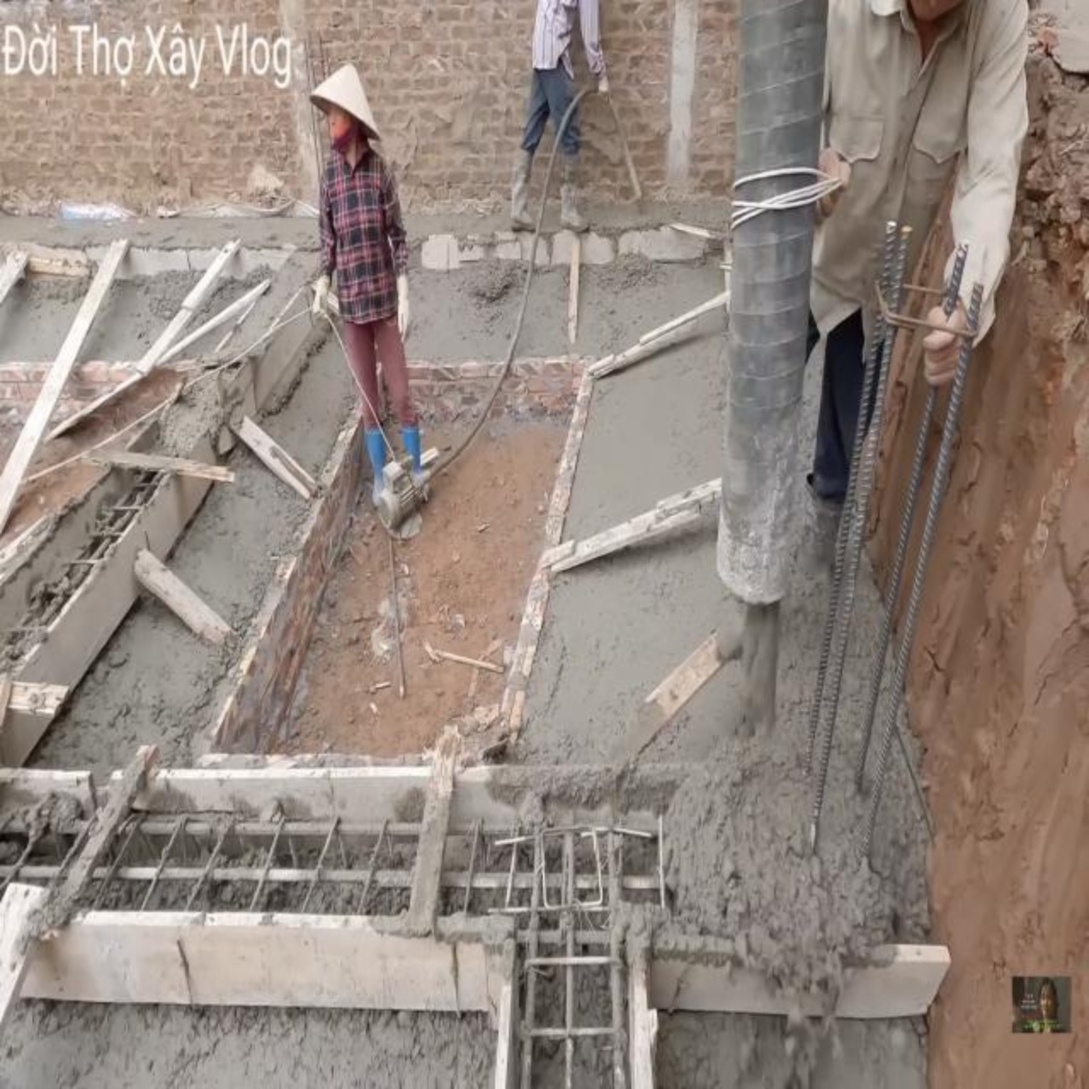no_helmet: (309, 64, 382, 151)
no_vest: (806, 1, 1032, 353), (809, 0, 1029, 344), (316, 159, 409, 324), (530, 0, 607, 75)
person: (802, 2, 1035, 631), (311, 64, 428, 518), (506, 0, 617, 242)
